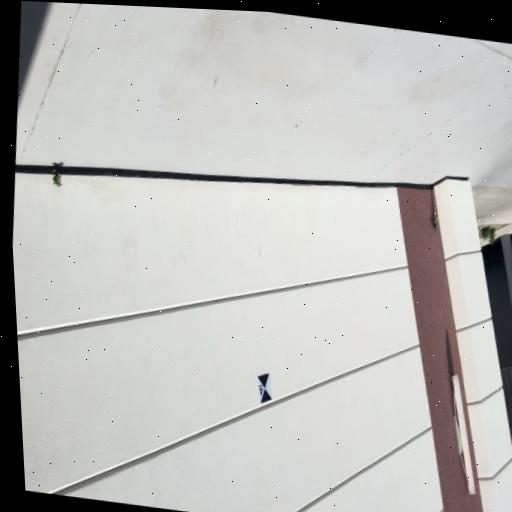target4: (257, 372, 272, 403)
